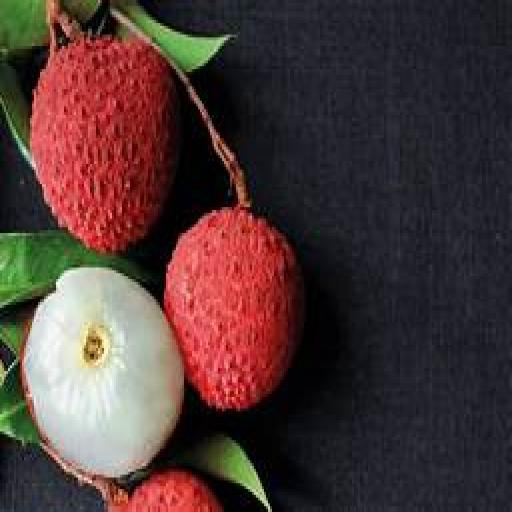lychee: (22, 268, 183, 477), (30, 38, 179, 253), (164, 208, 303, 408), (122, 469, 221, 511)
